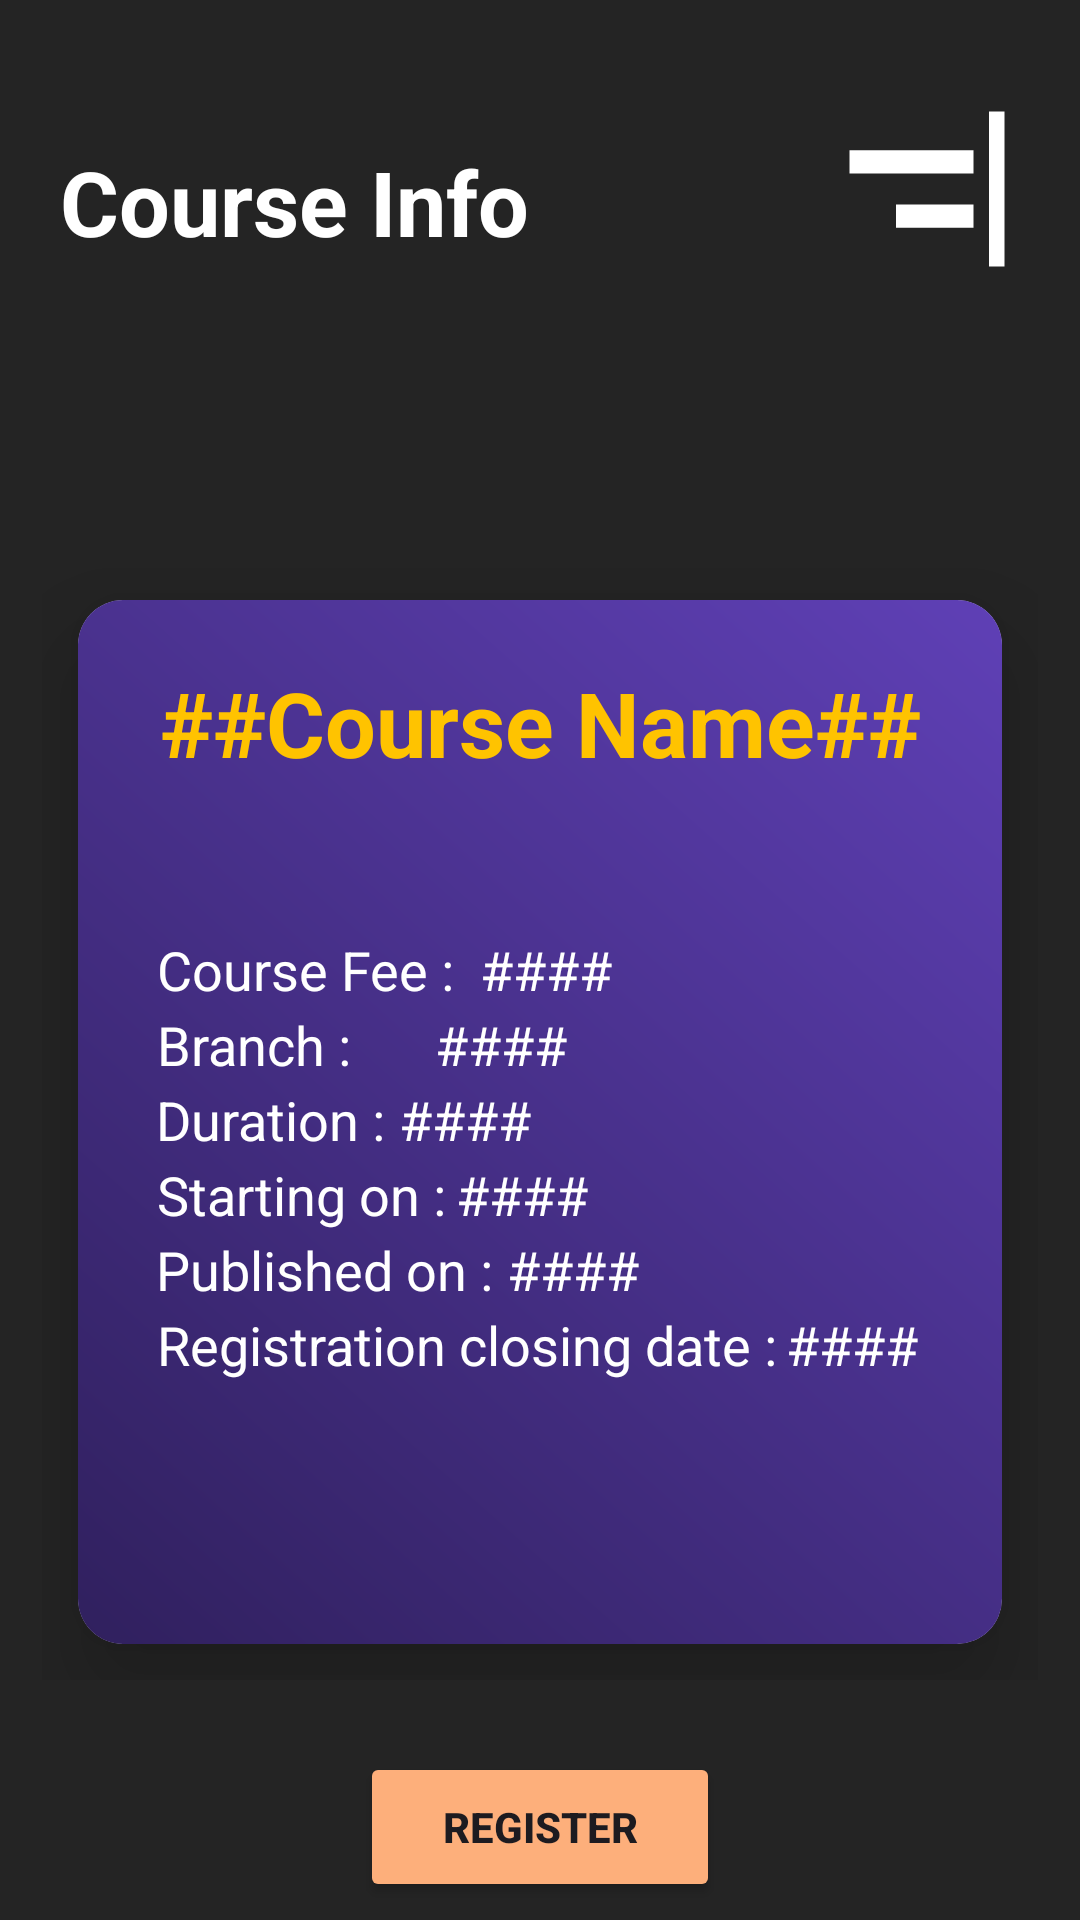

Icons on this 1080×1920 Android screen, each with the point to tap as [x,y]:
align horizontal right: [927,189]
